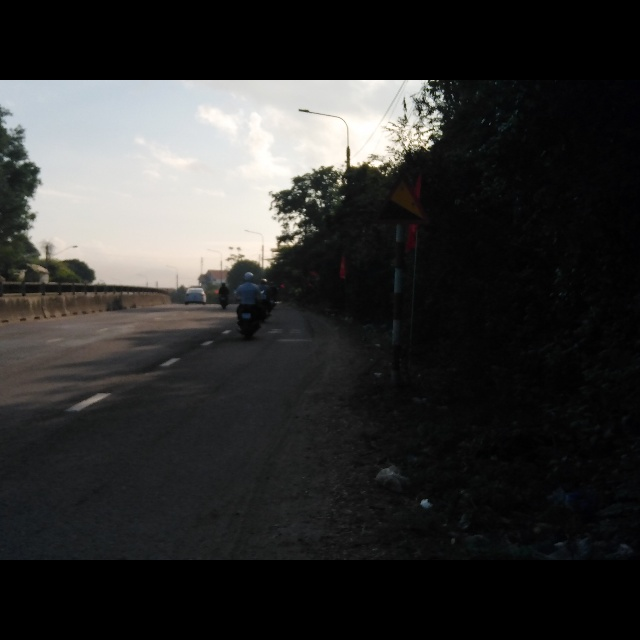Dốc lên nguy hiểm: (372, 174, 429, 227)
